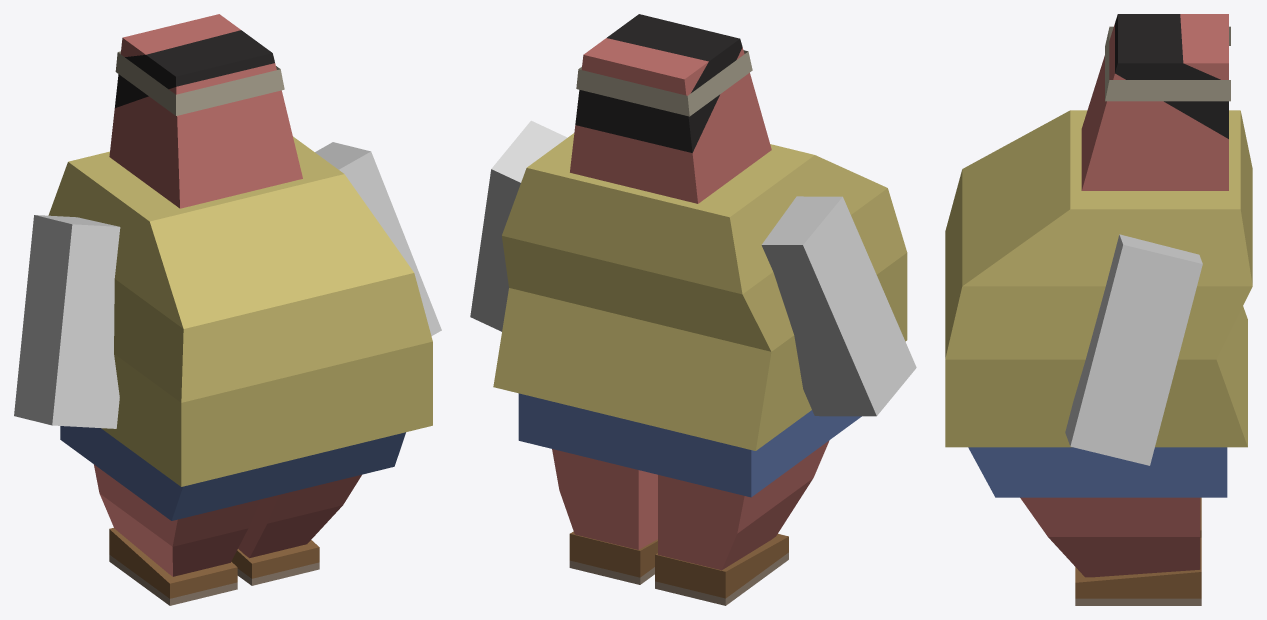
The model's file is fatman_test.fbx.
The picture shows the model from 3 angles, left to right: view 1: azimuth 30°, elevation 25°; view 2: azimuth 150°, elevation 25°; view 3: azimuth 270°, elevation 25°; orthographic projection. The views are drawn at different scales.
Parts seen in each view (by area): view 1: fatman_test_body, arm_02, arm_01; view 2: fatman_test_body, arm_02, arm_01; view 3: fatman_test_body, arm_01.
Boxes of the visible parts, x1=… form: fatman_test_body: x1=48, y1=14, x2=432, y2=605; arm_02: x1=14, y1=215, x2=120, y2=428; arm_01: x1=315, y1=142, x2=441, y2=336; fatman_test_body: x1=493, y1=14, x2=907, y2=605; arm_02: x1=761, y1=196, x2=916, y2=416; arm_01: x1=470, y1=120, x2=567, y2=331; fatman_test_body: x1=945, y1=14, x2=1252, y2=605; arm_01: x1=1065, y1=234, x2=1202, y2=465.
Size of the model in its own units: 235 by 293 by 154.
